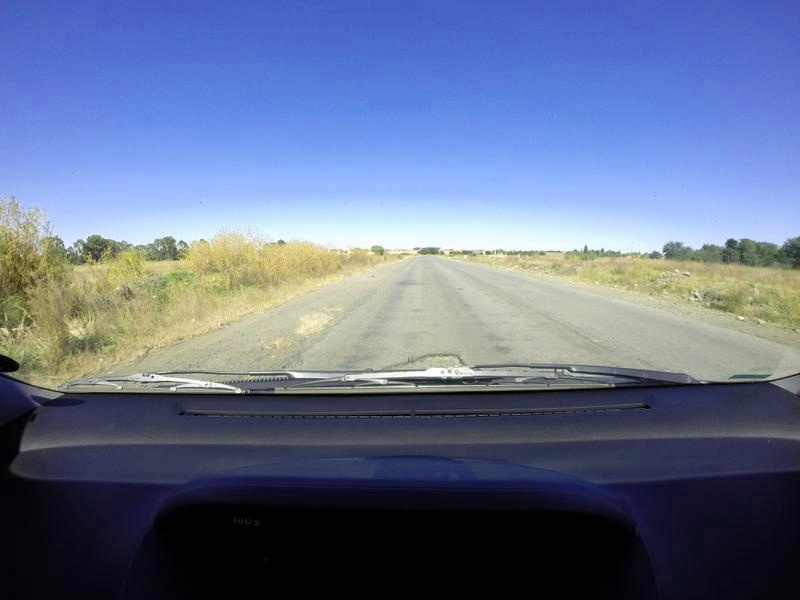pothole: (372, 356, 473, 366)
